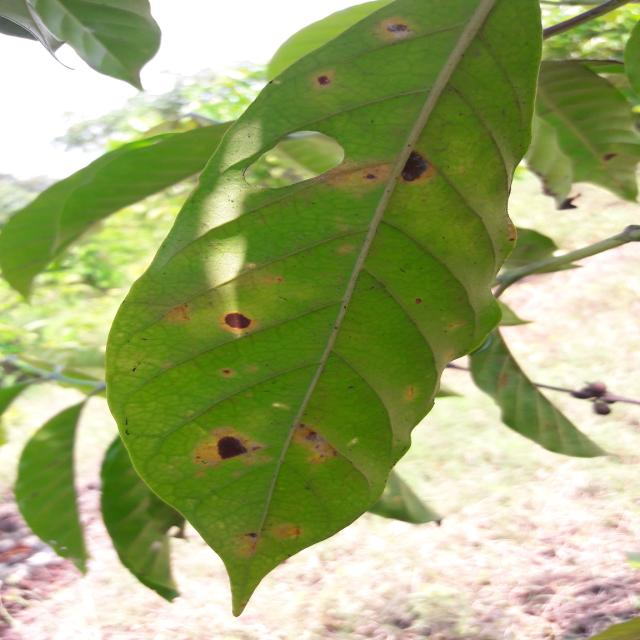Enfermedad-Roya: (101, 1, 538, 617)
